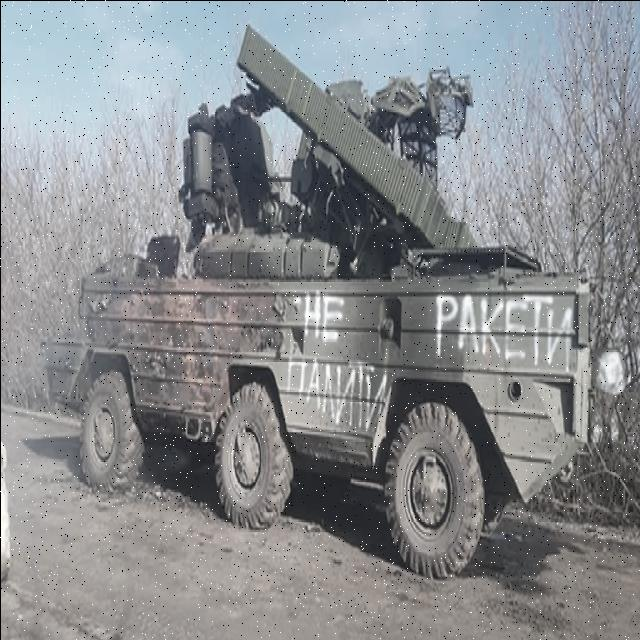MLRS: (32, 25, 598, 582)
